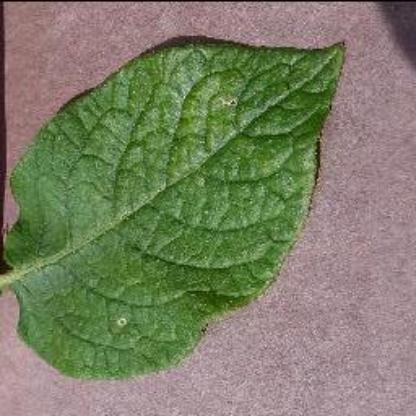Healthy-plant: (7, 28, 366, 382)
